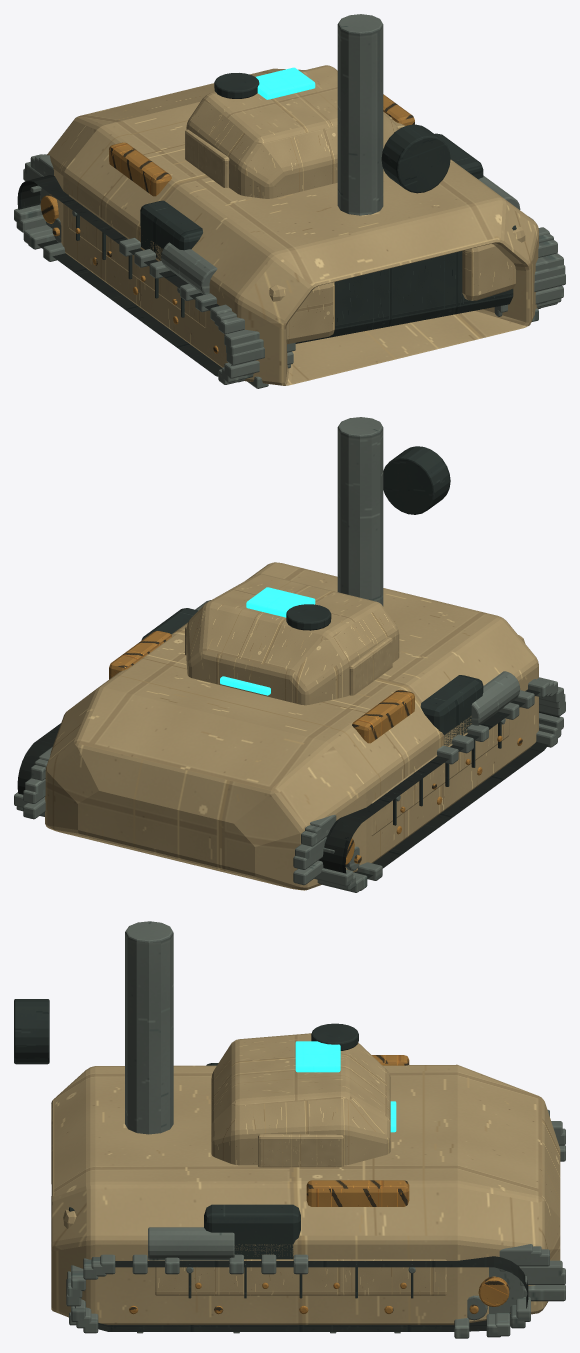
File: bulwark.glb
The picture shows the model from 3 angles, top to bottom: view 1: azimuth 30°, elevation 25°; view 2: azimuth 150°, elevation 25°; view 3: azimuth 270°, elevation 25°; orthographic projection. The views are drawn at different scales.
Parts seen in each view (by area): view 1: Bulwark · welded six-facet armored hull, Bulwark Assault · faceted traversing gunhouse, Static · Vehicle / steel, Static · Vehicle / track, Full-width assault mantlet, Static · Vehicle / armor_light, Static · Vehicle / dark, Static · Vehicle / rubber, Static · Vehicle / hazard, Static · Vehicle / armor_light.001, TeamColor.001, Static · Vehicle / dark.001; view 2: Bulwark · welded six-facet armored hull, Bulwark Assault · faceted traversing gunhouse, Static · Vehicle / steel, Static · Vehicle / track, Static · Vehicle / dark, Static · Vehicle / rubber, Static · Vehicle / hazard, Static · Vehicle / armor_light, Static · Vehicle / armor_light.001, TeamColor.001, Static · Vehicle / dark.001; view 3: Bulwark · welded six-facet armored hull, Bulwark Assault · faceted traversing gunhouse, Static · Vehicle / steel, Static · Vehicle / armor_light, Static · Vehicle / track, Static · Vehicle / dark, Static · Vehicle / rubber, Static · Vehicle / hazard, Static · Vehicle / armor_light.001, TeamColor.001, Static · Vehicle / dark.001.
Boxes of the visible parts, bbox=[...] form: Bulwark · welded six-facet armored hull: bbox=[47, 68, 538, 385]; Bulwark Assault · faceted traversing gunhouse: bbox=[186, 65, 398, 198]; Static · Vehicle / steel: bbox=[30, 14, 546, 382]; Static · Vehicle / track: bbox=[14, 154, 565, 388]; Full-width assault mantlet: bbox=[295, 225, 516, 343]; Static · Vehicle / armor_light: bbox=[68, 194, 525, 344]; Static · Vehicle / dark: bbox=[76, 124, 483, 317]; Static · Vehicle / rubber: bbox=[17, 175, 554, 376]; Static · Vehicle / hazard: bbox=[40, 94, 414, 353]; Static · Vehicle / armor_light.001: bbox=[185, 112, 392, 187]; TeamColor.001: bbox=[256, 67, 315, 99]; Static · Vehicle / dark.001: bbox=[214, 73, 259, 98]; Bulwark · welded six-facet armored hull: bbox=[45, 562, 538, 890]; Bulwark Assault · faceted traversing gunhouse: bbox=[186, 573, 399, 705]; Static · Vehicle / steel: bbox=[30, 417, 520, 887]; Static · Vehicle / track: bbox=[14, 677, 565, 892]; Static · Vehicle / dark: bbox=[141, 446, 501, 825]; Static · Vehicle / rubber: bbox=[17, 689, 559, 878]; Static · Vehicle / hazard: bbox=[109, 630, 522, 864]; Static · Vehicle / armor_light: bbox=[371, 635, 525, 835]; Static · Vehicle / armor_light.001: bbox=[185, 625, 392, 695]; TeamColor.001: bbox=[246, 587, 315, 617]; Static · Vehicle / dark.001: bbox=[286, 604, 331, 630]; Bulwark · welded six-facet armored hull: bbox=[51, 1064, 560, 1324]; Bulwark Assault · faceted traversing gunhouse: bbox=[211, 1033, 390, 1165]; Static · Vehicle / steel: bbox=[125, 921, 526, 1333]; Static · Vehicle / armor_light: bbox=[63, 1210, 446, 1295]; Static · Vehicle / track: bbox=[66, 1109, 565, 1338]; Static · Vehicle / dark: bbox=[14, 999, 413, 1298]; Static · Vehicle / rubber: bbox=[75, 1256, 528, 1331]; Static · Vehicle / hazard: bbox=[129, 1055, 509, 1314]; Static · Vehicle / armor_light.001: bbox=[258, 1134, 343, 1167]; TeamColor.001: bbox=[295, 1041, 340, 1072]; Static · Vehicle / dark.001: bbox=[311, 1023, 358, 1050].
Size of the model in its own units: 2.86 by 2.51 by 3.88.
Materials: 10 (9 with a texture image).
